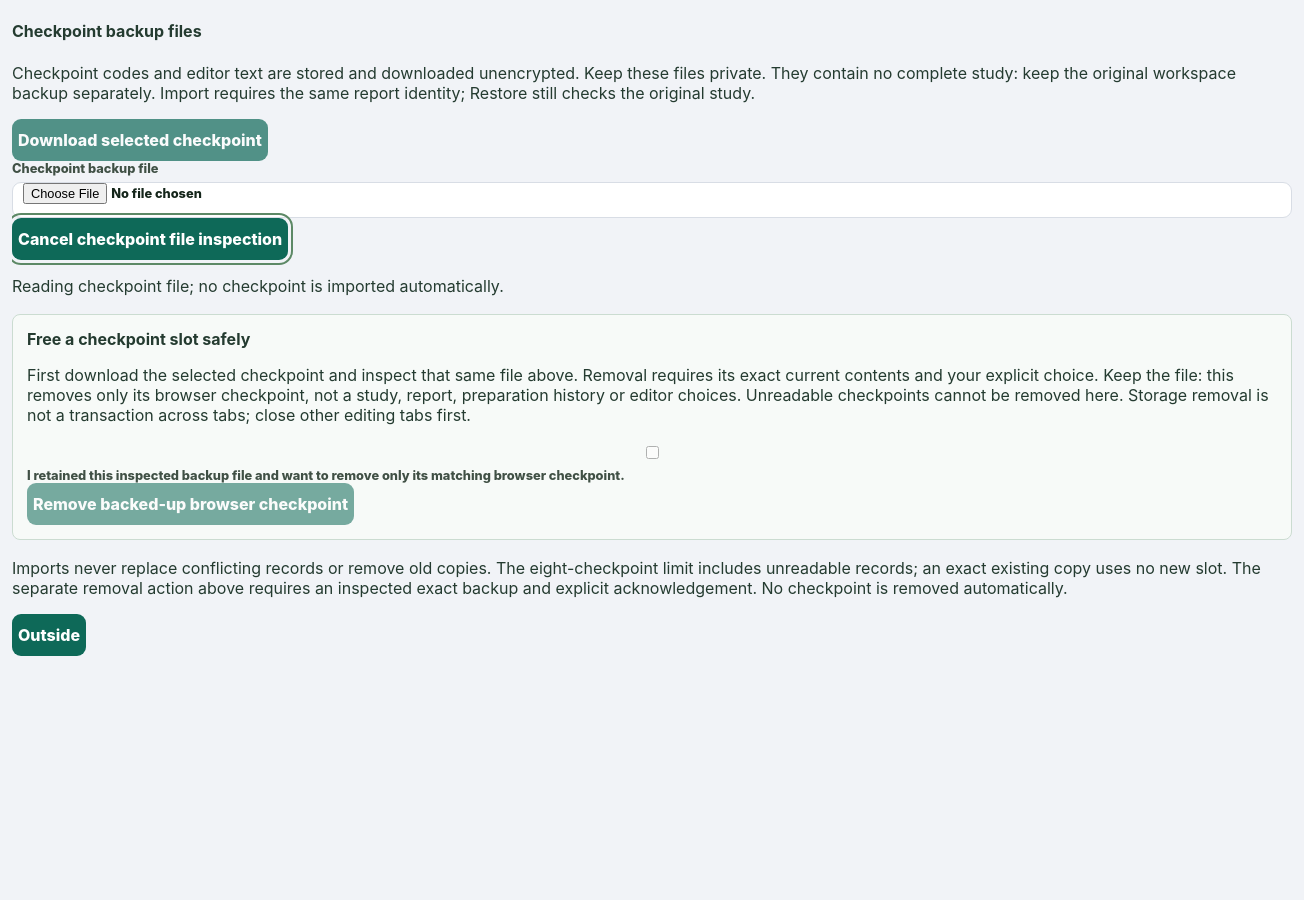
can choose the same unchanged file again after cancel without importing automatically
This screenshot has width=1304, height=900.
Earlier steps of the test are not shown.
Later steps or results of the test are not shown.
Click the button "Cancel checkpoint file inspection".
click(150, 238)  # box [12,218,288,260]
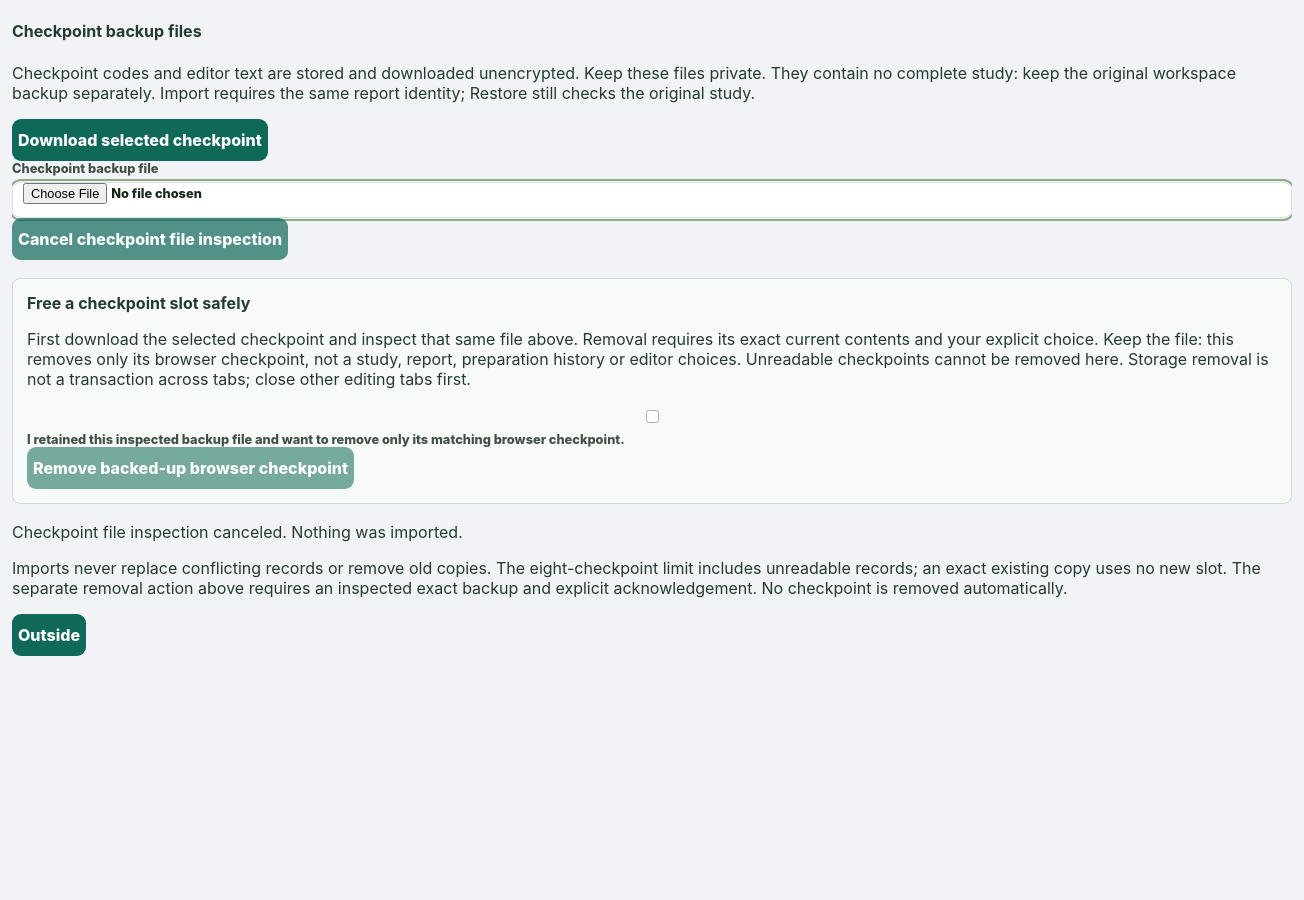
Expected: the button "Cancel checkpoint file inspection" is disabled, [12,218,288,260]
